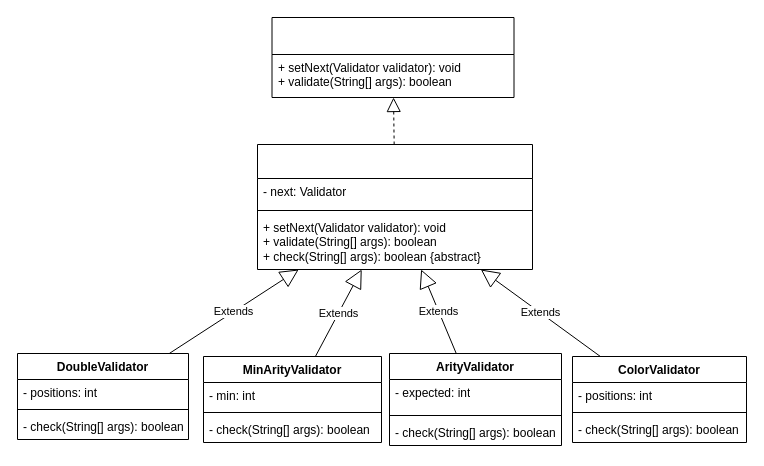
Some shapes in this 764 by 466 pixel diagram are drawn without their labels. Here are the shapes that lost their labels. From the top down, the box of each, then its label:
(271, 16, 514, 98): «interface» Validator
(256, 144, 532, 270): «abstract» ArgsValidator
